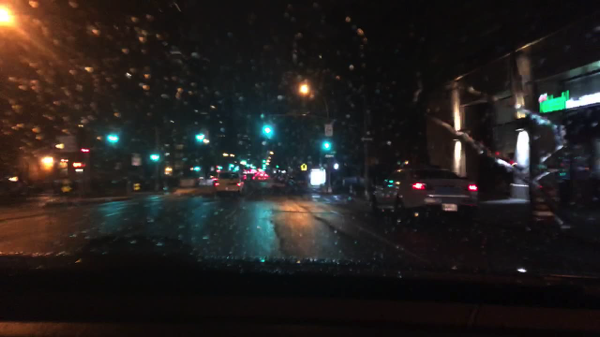car: (370, 164, 479, 229), (215, 171, 243, 198), (1, 174, 29, 197), (179, 175, 198, 189), (110, 176, 128, 187), (198, 176, 214, 187), (243, 173, 255, 184), (257, 173, 268, 181)
traffic light: (109, 131, 118, 146), (264, 124, 271, 137), (150, 151, 157, 162), (197, 132, 204, 143), (323, 140, 330, 151), (73, 162, 81, 168), (332, 163, 339, 169), (81, 148, 89, 153), (195, 165, 199, 172), (229, 162, 233, 169), (276, 164, 279, 169), (263, 159, 265, 164)
traffic sign: (132, 154, 142, 166), (324, 123, 333, 136), (360, 137, 373, 142), (324, 154, 334, 159), (301, 163, 307, 171)
